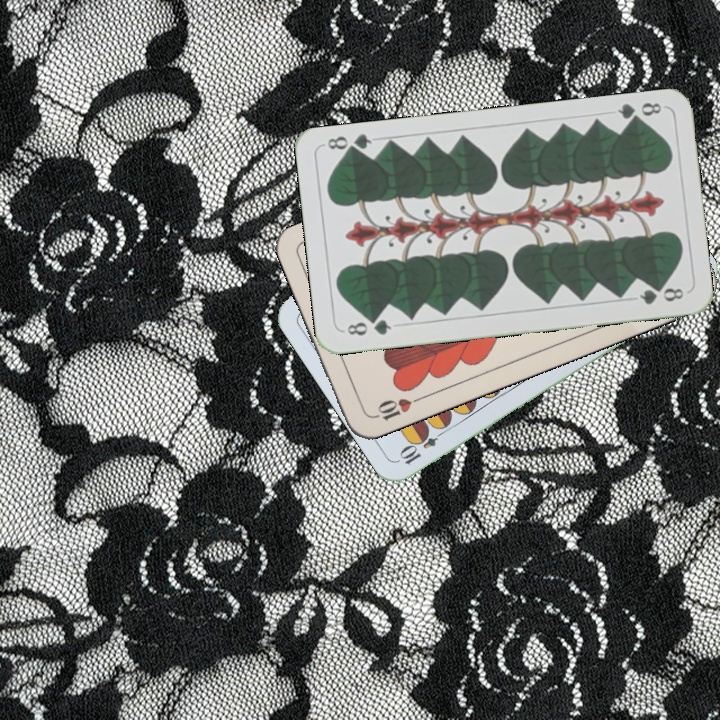E10: (396, 423, 449, 468)
G8: (613, 98, 664, 127), (340, 314, 394, 339)
H10: (367, 392, 424, 423)
